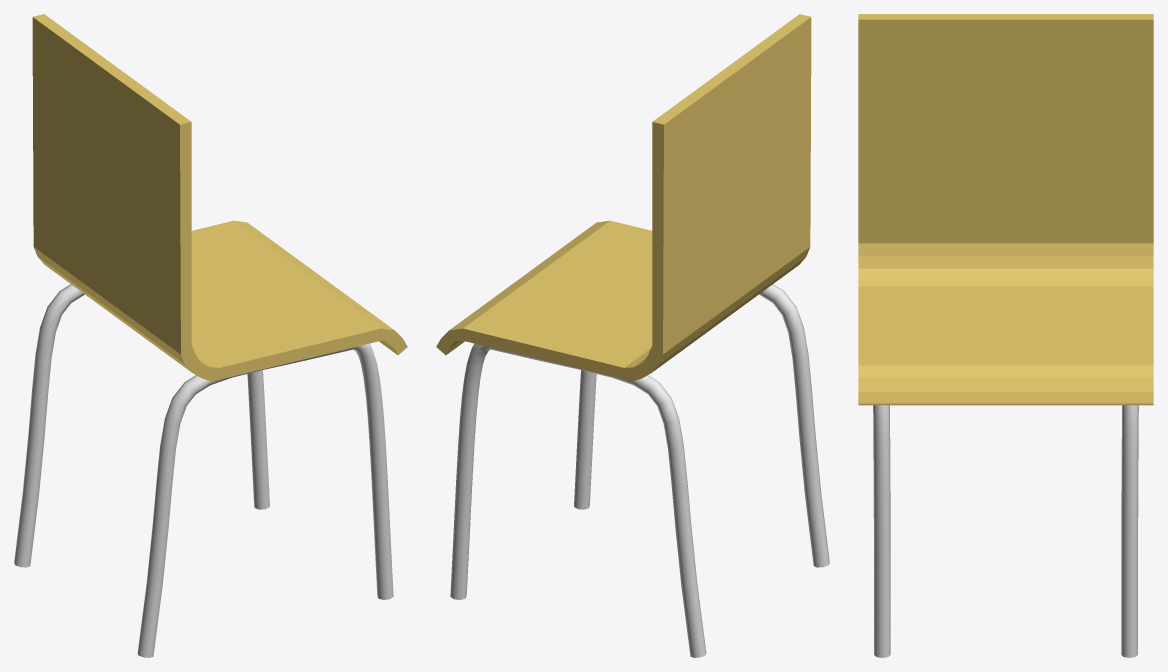
The model's file is Chair.fbx.
3 renders of one model, left to right at view 1: azimuth 30°, elevation 25°; view 2: azimuth 150°, elevation 25°; view 3: azimuth 270°, elevation 25°, orthographic.
Parts seen in each view (by area): view 1: Cube, BezierCurve; view 2: Cube, BezierCurve; view 3: Cube, BezierCurve.
Boxes of the visible parts, bbox=[...] form: Cube: bbox=[32, 14, 407, 381]; BezierCurve: bbox=[14, 284, 393, 657]; Cube: bbox=[436, 14, 811, 381]; BezierCurve: bbox=[450, 284, 829, 657]; Cube: bbox=[858, 14, 1153, 405]; BezierCurve: bbox=[873, 405, 1138, 657].
Bounding box in the file's own units: 0.482 × 0.9564 × 0.478.
